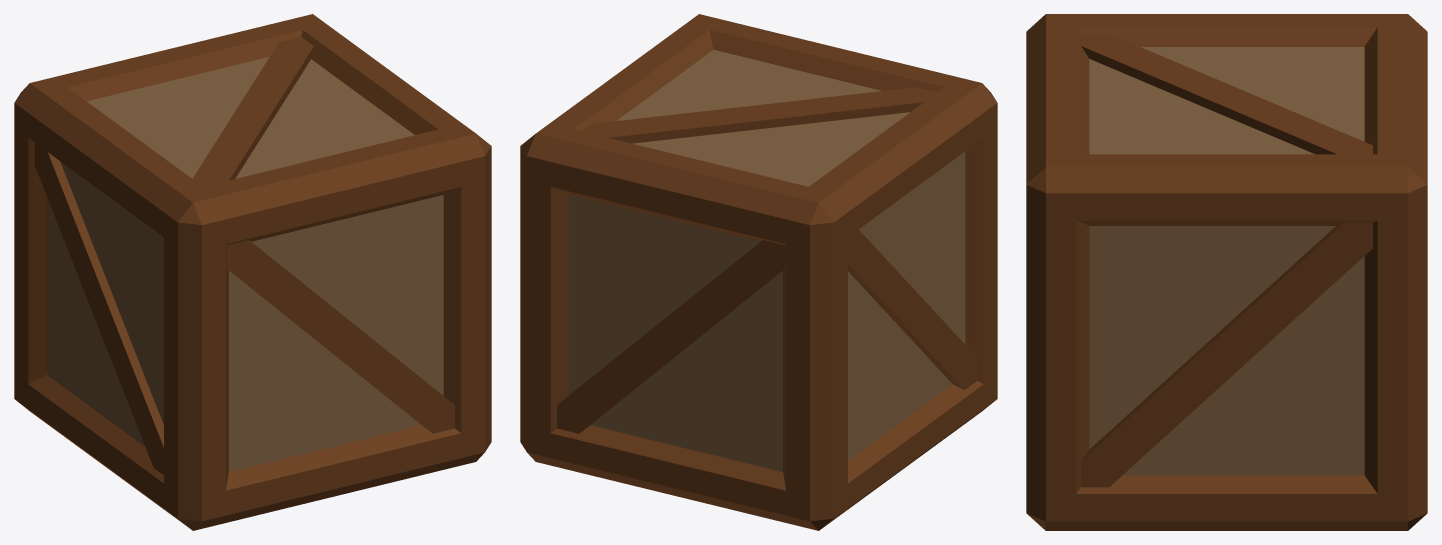
File: Crate.fbx
The picture shows the model from 3 angles, left to right: view 1: azimuth 30°, elevation 25°; view 2: azimuth 150°, elevation 25°; view 3: azimuth 270°, elevation 25°; orthographic projection. The views are drawn at different scales.
Parts seen in each view (by area): view 1: Ext_crate, Int_crate; view 2: Ext_crate, Int_crate; view 3: Ext_crate, Int_crate.
Part boxes in pixels (x1=…): Ext_crate: x1=14, y1=14, x2=491, y2=530; Int_crate: x1=46, y1=57, x2=443, y2=471; Ext_crate: x1=520, y1=14, x2=997, y2=530; Int_crate: x1=568, y1=49, x2=965, y2=471; Ext_crate: x1=1026, y1=14, x2=1427, y2=530; Int_crate: x1=1089, y1=47, x2=1364, y2=475.
Size of the model in its own units: 4 by 4 by 4.
